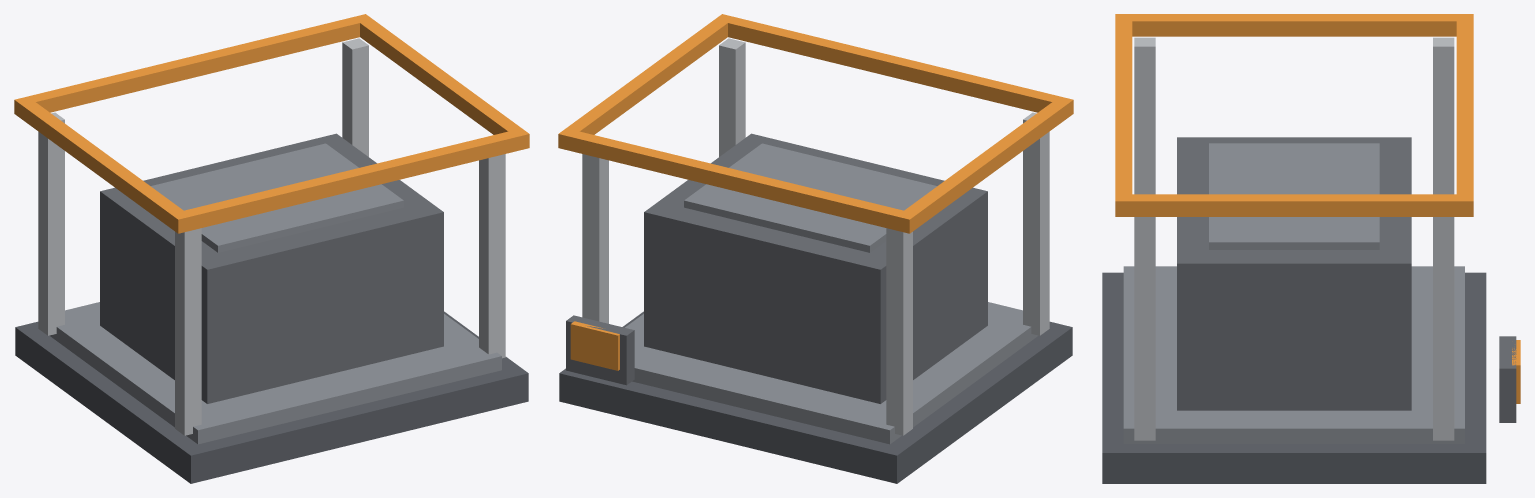
File: box-pack.glb
3 renders of one model, left to right at view 1: azimuth 30°, elevation 25°; view 2: azimuth 150°, elevation 25°; view 3: azimuth 270°, elevation 25°, orthographic. The views are drawn at different scales.
Visible parts, largest first — view 1: box-pack; view 2: box-pack; view 3: box-pack.
Part boxes in pixels (x1=…): box-pack: x1=14, y1=14, x2=529, y2=483; box-pack: x1=558, y1=14, x2=1073, y2=483; box-pack: x1=1102, y1=14, x2=1520, y2=483.
Size of the model in its own units: 1.04 by 0.74 by 0.98.
